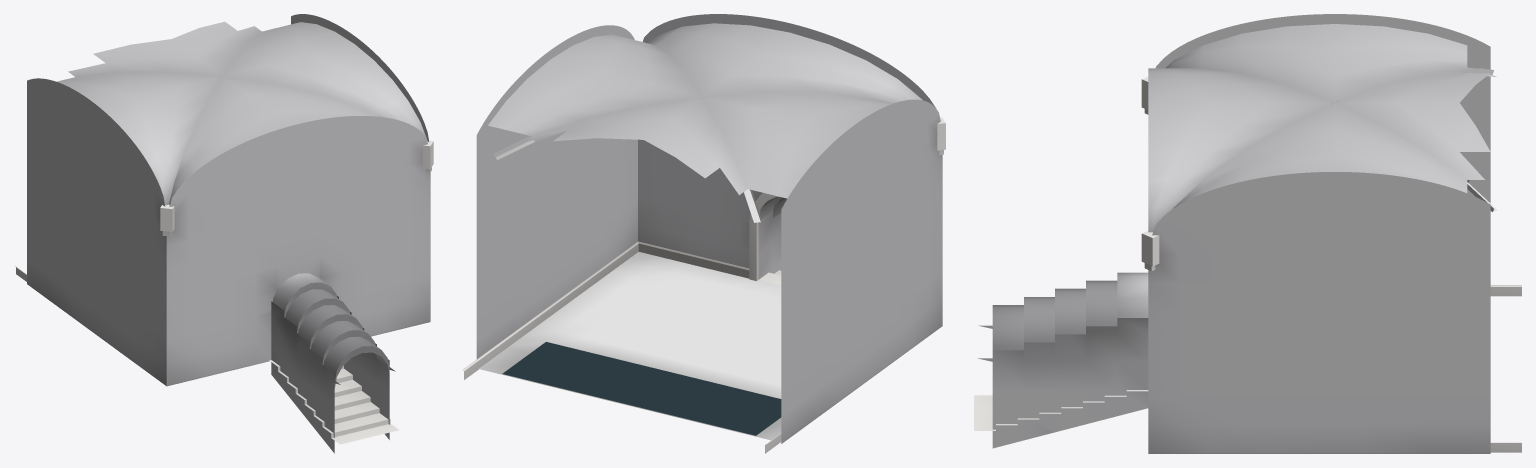
The model's file is crypt_03_bi.glb.
3 renders of one model, left to right at view 1: azimuth 30°, elevation 25°; view 2: azimuth 150°, elevation 25°; view 3: azimuth 270°, elevation 25°, orthographic. The views are drawn at different scales.
Visible parts, largest first — view 1: crypt_03_bi; view 2: crypt_03_bi; view 3: crypt_03_bi.
Part boxes in pixels (<box>): crypt_03_bi: <box>15,14,433,453</box>; crypt_03_bi: <box>462,14,945,453</box>; crypt_03_bi: <box>974,14,1521,453</box>.
Size of the model in its own units: 12.42 by 12.02 by 17.6.
